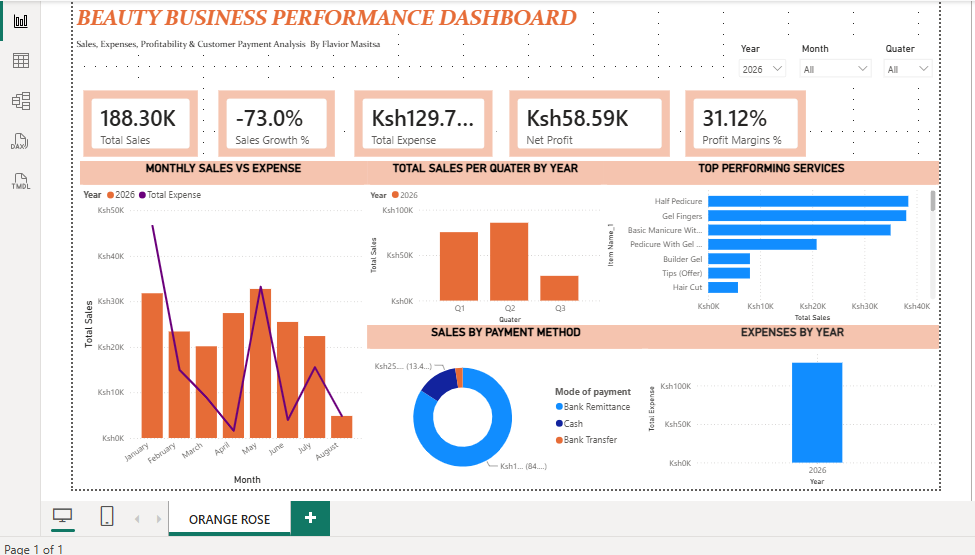

What the dashboard file says about the page in this screenshot:
{"tool":"powerbi","page":{"name":"BEAUTY SALOON ","canvas":[1280,720],"ordinal":0},"visuals":[{"type":"textbox","box":[0,0,757.7,48.7],"z":0},{"type":"textbox","box":[0,48.7,472.6,28.1],"z":1000},{"type":"slicer","fields":{"Values":["DateTable.Year"]},"box":[973.3,57.6,90.1,63.5],"z":2000},{"type":"slicer","fields":{"Values":["DateTable.Month"]},"box":[1063.4,57.6,125.5,63.5],"z":3000},{"type":"slicer","fields":{"Values":["DateTable.Quater"]},"box":[1187.4,57.6,91.6,63.5],"z":4000},{"type":"cardVisual","fields":{"Data":["Sales.Total Sales"]},"box":[10.3,126.5,179.4,108.8],"z":5000},{"type":"cardVisual","fields":{"Data":["Sales.Sales Growth %"]},"box":[210.3,126.5,182.4,108.8],"z":6000},{"type":"cardVisual","fields":{"Data":["Expense.Total Expense"]},"box":[410.3,126.5,214.7,108.8],"z":7000},{"type":"cardVisual","fields":{"Data":["Sales.Net Profit"]},"box":[639.7,126.5,247.1,108.8],"z":8000},{"type":"cardVisual","fields":{"Data":["Sales.Profit Margins %"]},"box":[900,126.5,188.2,108.8],"z":9000},{"type":"clusteredColumnChart","title":"TOTAL SALES PER QUATER BY YEAR","fields":{"Y":["Sales.Total Sales"],"Series":["DateTable.Year"],"Category":["DateTable.Quater"]},"box":[434.2,234.8,350,242.2],"z":10000},{"type":"clusteredBarChart","title":"TOP PERFORMING SERVICES","fields":{"Category":["Sales.Item Name_1"],"Y":["Sales.Total Sales"]},"box":[785.2,234.8,494.8,242.2],"z":11000},{"type":"donutChart","title":"SALES BY PAYMENT METHOD","fields":{"Category":["Sales.Mode of payment"],"Y":["Sales.Total Sales"]},"box":[434.2,478.5,410.6,242.2],"z":12000},{"type":"clusteredColumnChart","title":"EXPENSES BY YEAR","fields":{"Category":["DateTable.Year"],"Y":["Expense.Total Expense"]},"box":[844.8,478.5,435.7,242.2],"z":13000},{"type":"lineClusteredColumnComboChart","title":"MONTHLY SALES VS EXPENSE","fields":{"Category":["DateTable.Month"],"Y":["Sales.Total Sales"],"Y2":["Expense.Total Expense"],"Series":["DateTable.Year"]},"box":[10.3,236.3,423.9,484.4],"z":14000}]}

Visuals, with their boxes on the page's 1280x720 design canvas (x1, y1, x2, y2). These are canvas units, not pixel positions in the 975x555 screenshot, which may show the page scaled, cropped or inside an application window:
textbox: [x1=0, y1=0, x2=758, y2=49]
textbox: [x1=0, y1=49, x2=473, y2=77]
slicer - DateTable.Year: [x1=973, y1=58, x2=1063, y2=121]
slicer - DateTable.Month: [x1=1063, y1=58, x2=1189, y2=121]
slicer - DateTable.Quater: [x1=1187, y1=58, x2=1279, y2=121]
cardVisual - Sales.Total Sales: [x1=10, y1=126, x2=190, y2=235]
cardVisual - Sales.Sales Growth %: [x1=210, y1=126, x2=393, y2=235]
cardVisual - Expense.Total Expense: [x1=410, y1=126, x2=625, y2=235]
cardVisual - Sales.Net Profit: [x1=640, y1=126, x2=887, y2=235]
cardVisual - Sales.Profit Margins %: [x1=900, y1=126, x2=1088, y2=235]
"TOTAL SALES PER QUATER BY YEAR" clusteredColumnChart: [x1=434, y1=235, x2=784, y2=477]
"TOP PERFORMING SERVICES" clusteredBarChart: [x1=785, y1=235, x2=1280, y2=477]
"SALES BY PAYMENT METHOD" donutChart: [x1=434, y1=478, x2=845, y2=721]
"EXPENSES BY YEAR" clusteredColumnChart: [x1=845, y1=478, x2=1280, y2=721]
"MONTHLY SALES VS EXPENSE" lineClusteredColumnComboChart: [x1=10, y1=236, x2=434, y2=721]
